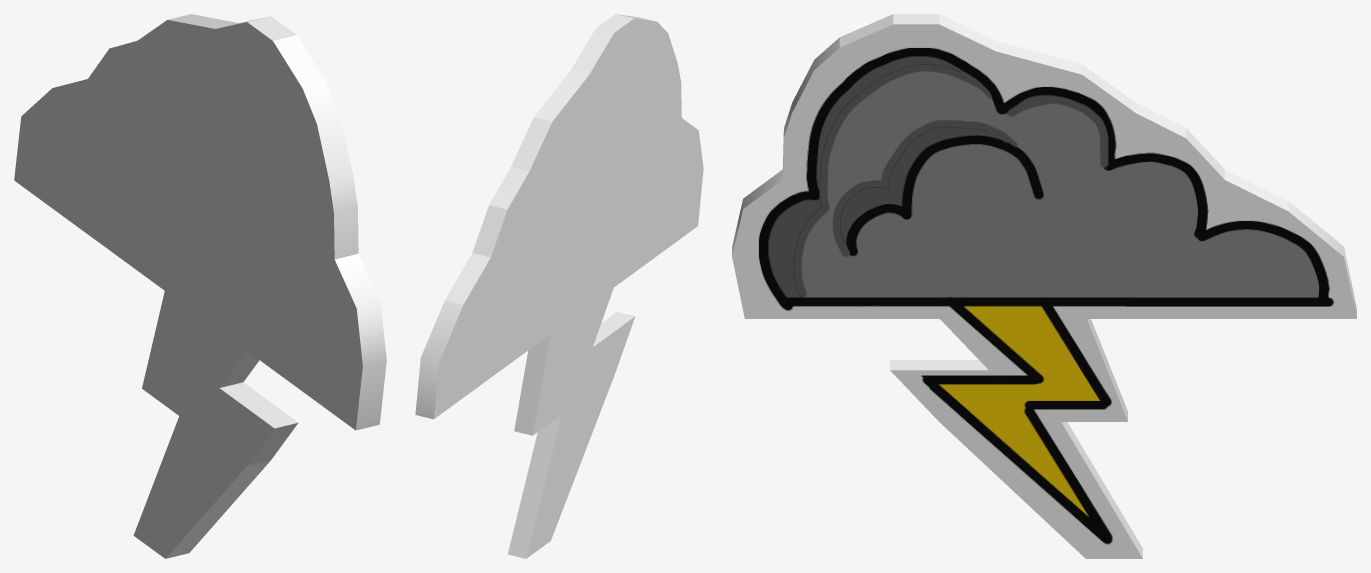
Rendered from cloud thunder.fbx.
3 renders of one model, left to right at view 1: azimuth 30°, elevation 25°; view 2: azimuth 150°, elevation 25°; view 3: azimuth 270°, elevation 25°, orthographic. The views are drawn at different scales.
Visible parts, largest first — view 1: pCube22; view 2: pCube22; view 3: pCube22.
Boxes of the visible parts, <box> form: pCube22: <box>14,14,386,558</box>; pCube22: <box>415,14,703,558</box>; pCube22: <box>732,14,1356,558</box>.
Bounding box in the file's own units: 0.5 × 11.9 × 12.61.
